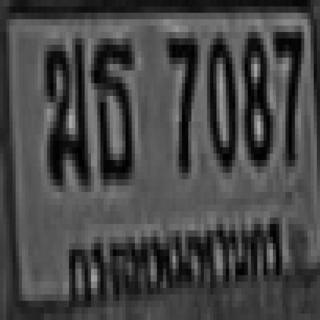A06: (41, 35, 88, 182)
A24: (91, 32, 132, 179)
N00: (205, 32, 234, 166)
N07: (166, 32, 195, 173), (273, 26, 301, 160)
N08: (242, 26, 270, 160)
